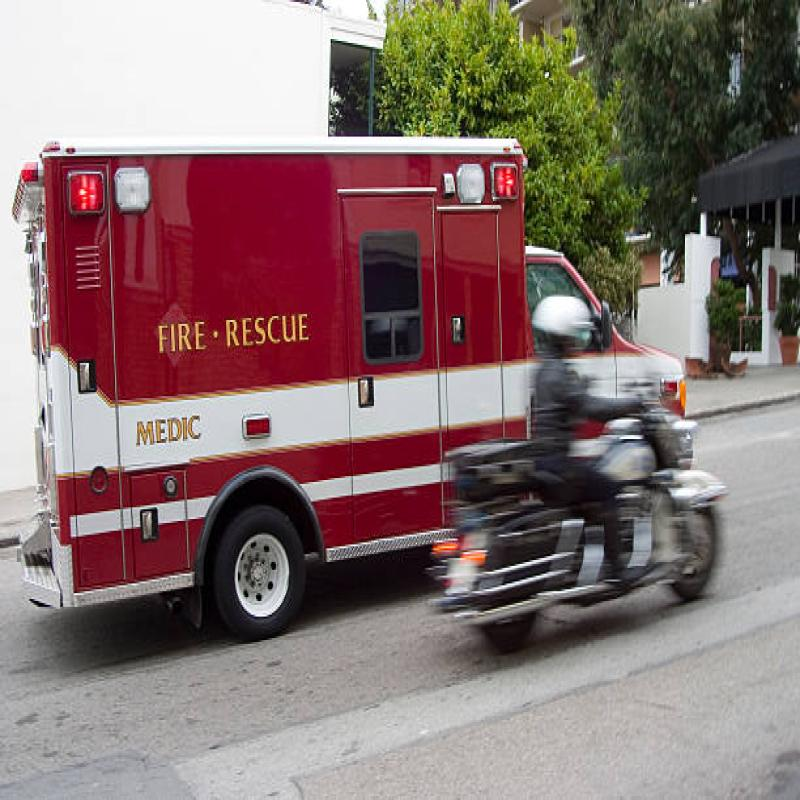AmbulanceSiren: (57, 156, 181, 222), (452, 146, 517, 222)
